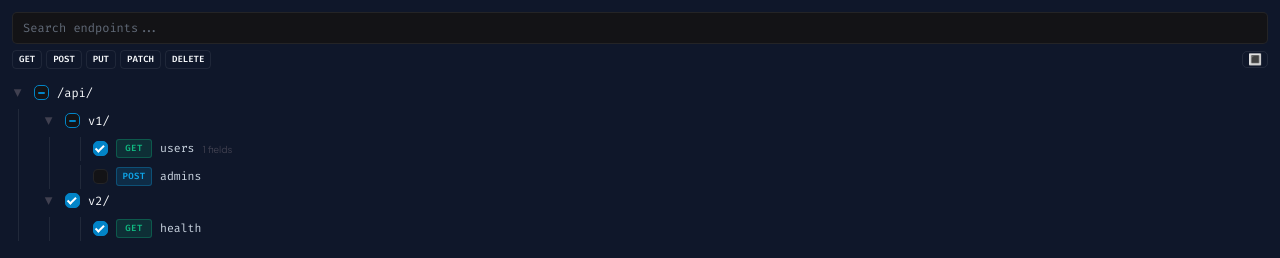
Scenario: EndpointTree Component › Included Only filter › filters out disabled endpoints when "Included Only" is toggled on and restores when toggled off
Expected: the text "users" is shown, [160,140,194,157]
Expected: the text "admins" is shown, [160,168,201,185]
// Click Included Only toggle
Step 1. Click the button named "filter included endpoints only" → click(1255, 59), box [1242,51,1268,68]
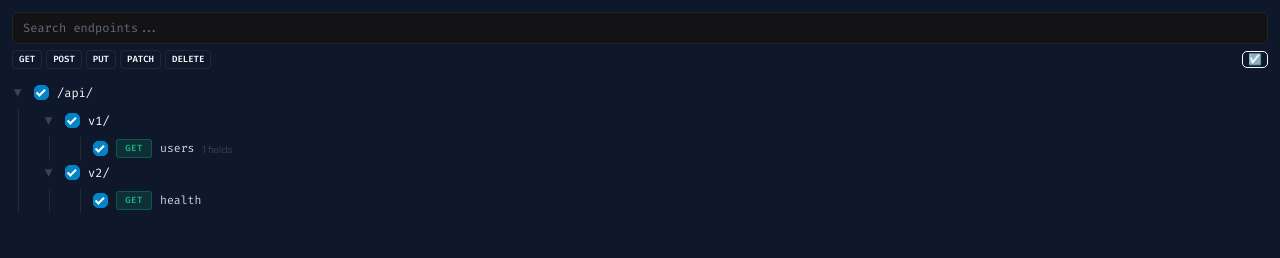
Expected: the text "users" is shown, [160,140,194,157]
Now the text "admins" is gone
// Click toggle again to turn off
Step 2. Click the button named "filter included endpoints only" → click(1255, 59), box [1242,51,1268,68]
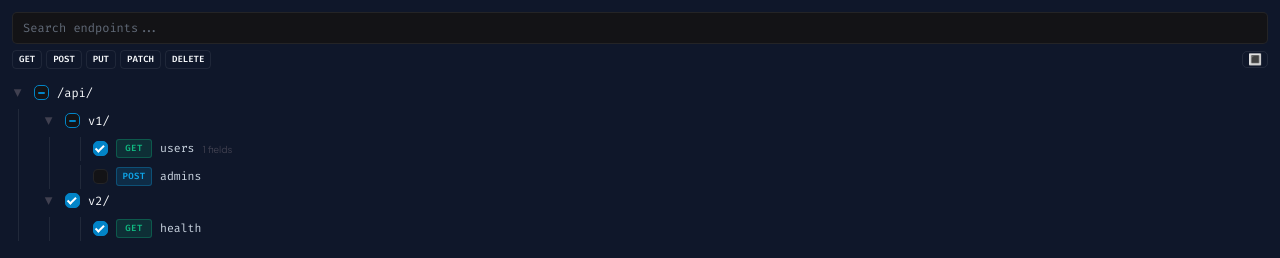
Expected: the text "users" is shown, [160,140,194,157]
Now the text "admins" is shown, box [160,168,201,185]
